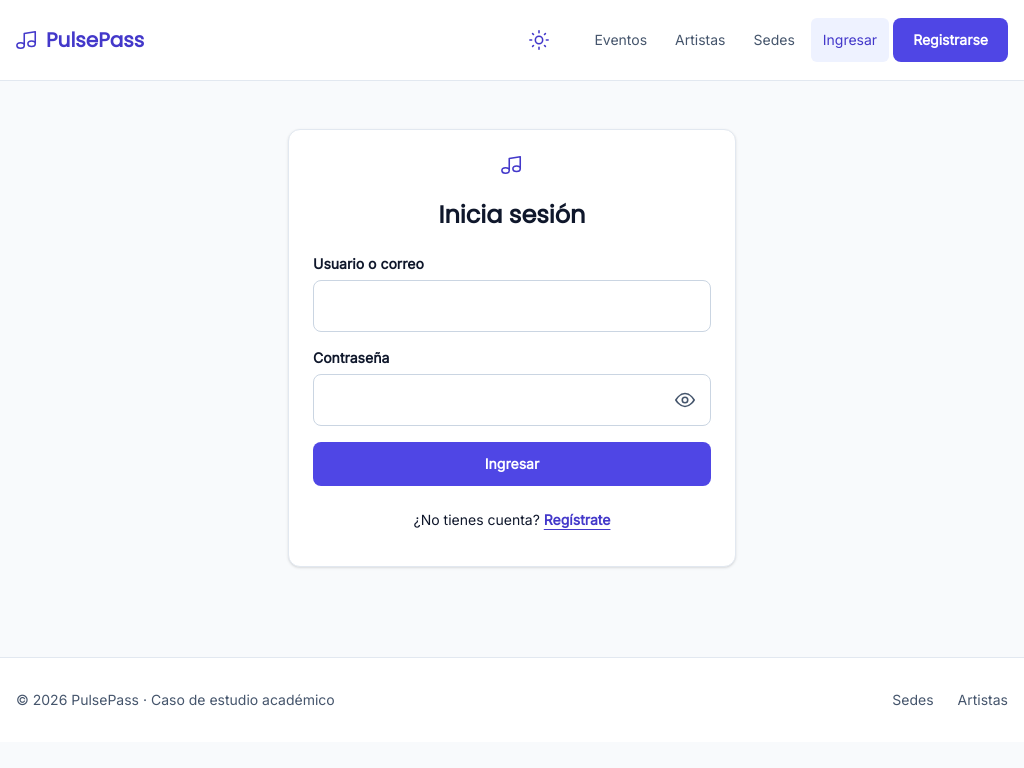
Test case: TEST-FE-AUTH-001 login válido conserva el destino
The width and height of the screenshot is (1024, 768).
Type "andrea" into the field labelled "Usuario o correo".
click(512, 306); type("andrea")  # box [313, 280, 711, 332]
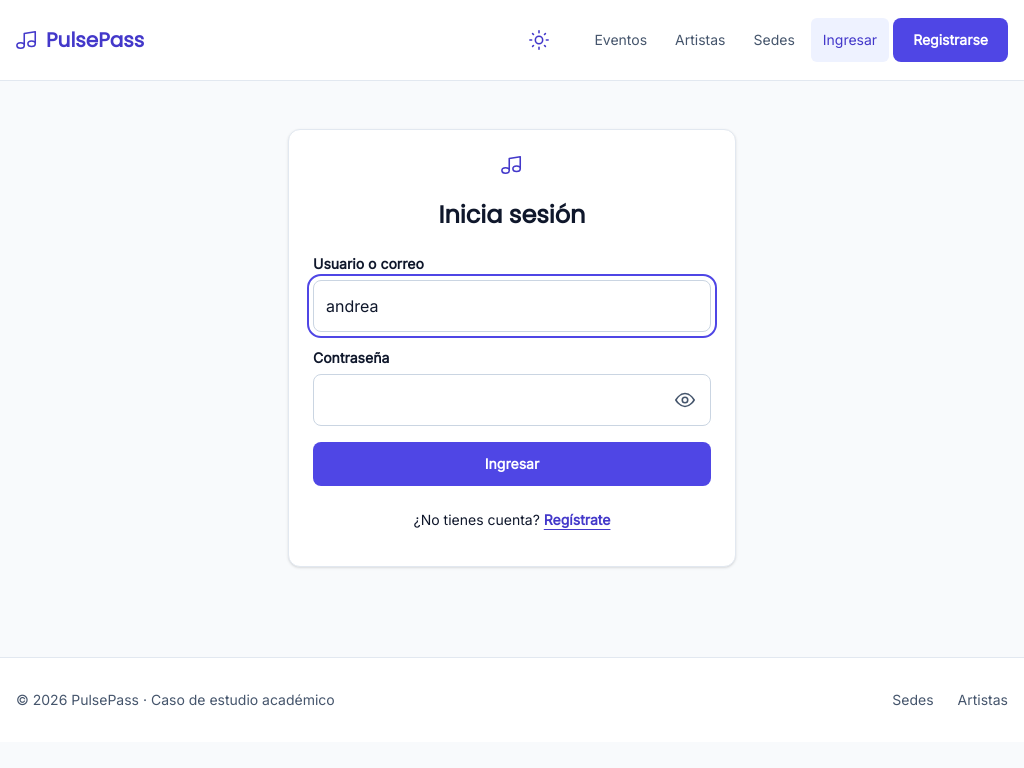
Type "UnaFraseLarga2026!" into the password field labelled "Contraseña".
click(512, 400); type("UnaFraseLarga2026!")  # box [313, 374, 711, 426]
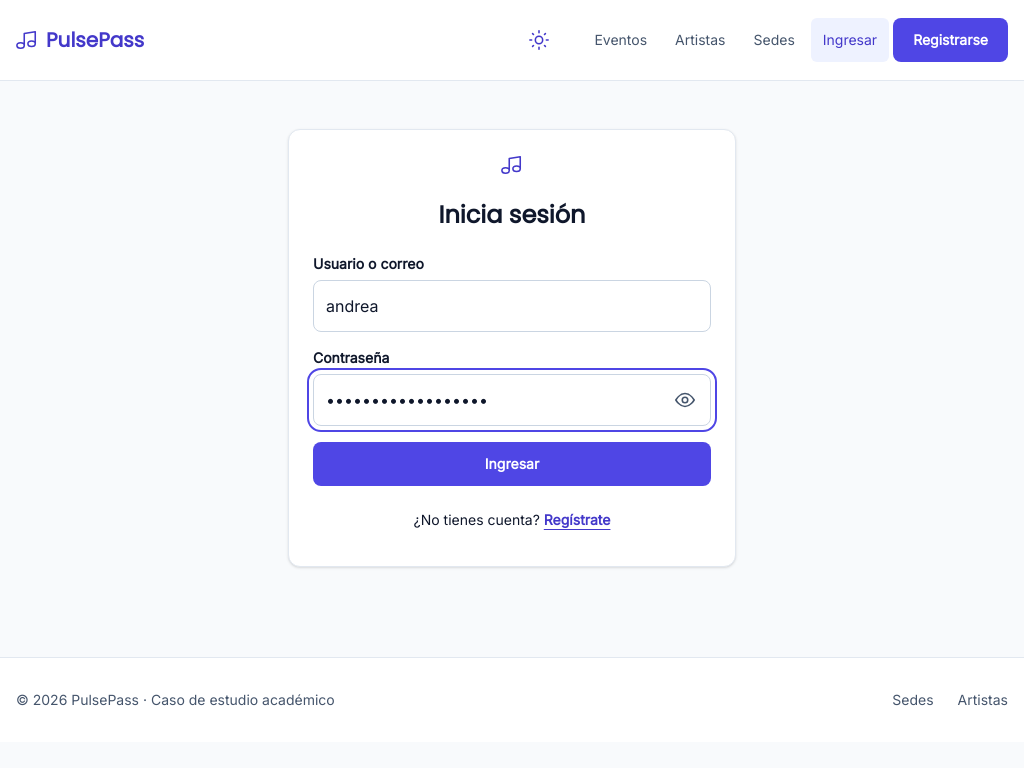
Click the button "Ingresar".
click(512, 464)  # box [313, 442, 711, 486]
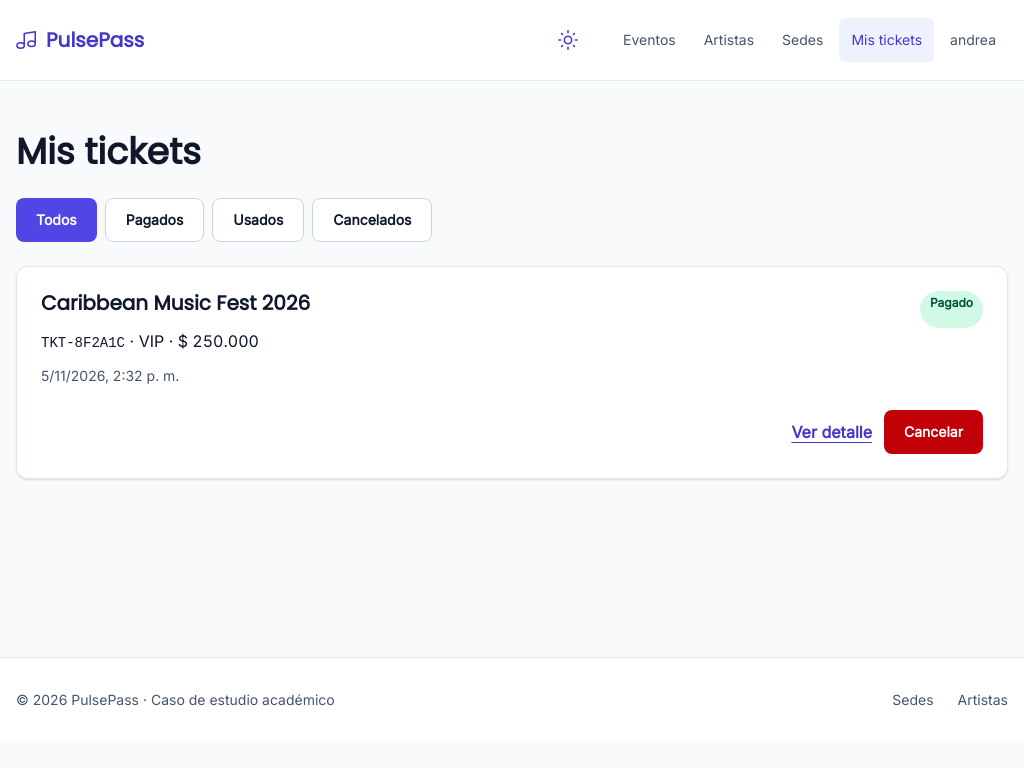
Expected: the heading "Mis tickets" is shown, [16, 126, 201, 177]
